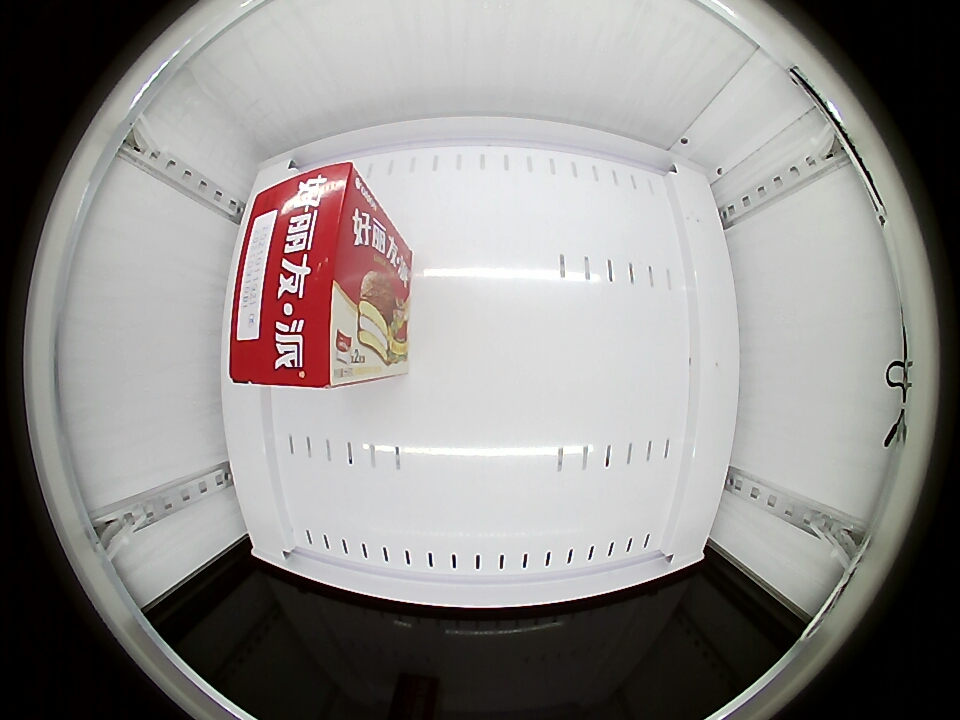haoliyou: (228, 164, 382, 388)
